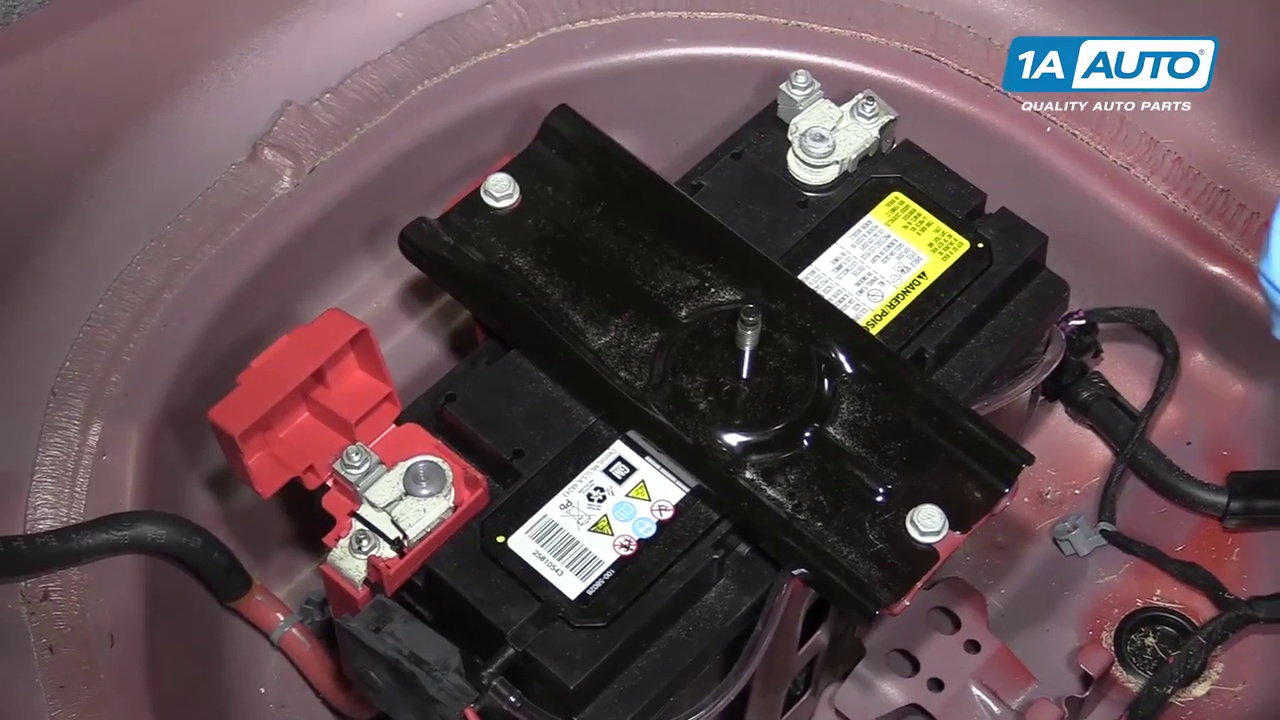battery: (318, 72, 1044, 670)
neg_connected: (754, 54, 910, 196)
pos_connected: (244, 362, 482, 601)
